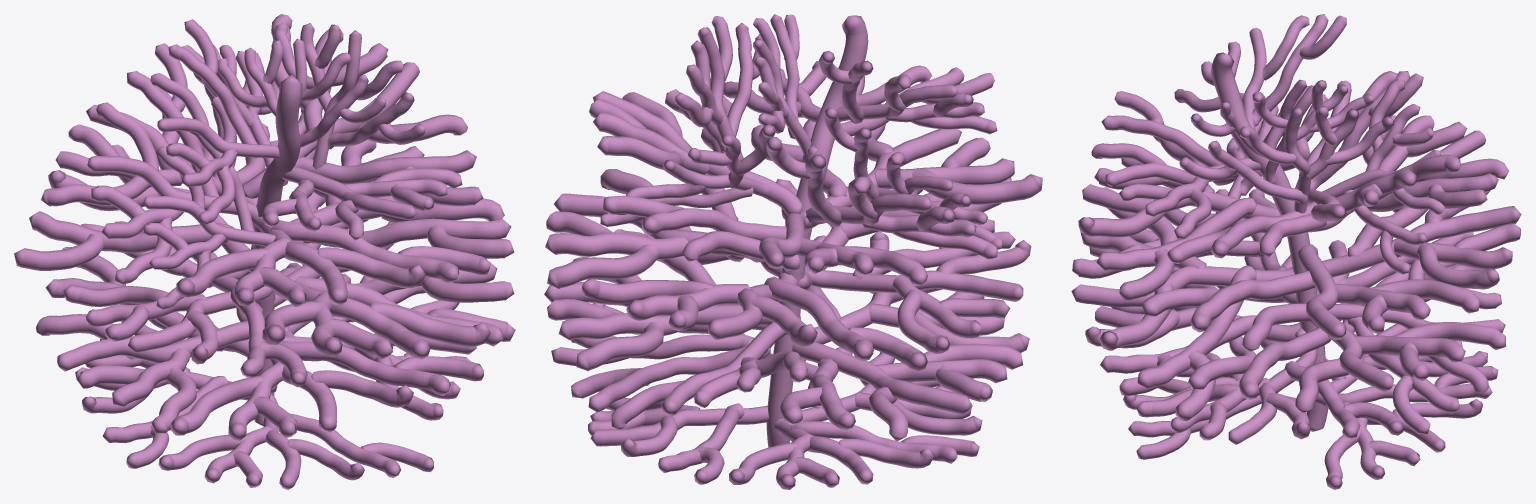
Rendered from coral1.glb.
3 views of the same model, side by side, from view 1: azimuth 30°, elevation 25°; view 2: azimuth 150°, elevation 25°; view 3: azimuth 270°, elevation 25° (orthographic). The views are drawn at different scales.
Parts seen in each view (by area): view 1: brush_Icing_g14_b0_30, brush_Icing_g5_b0_12, brush_Icing_g9_b0_20, brush_Icing_g6_b0_14, brush_Icing_g10_b0_22, brush_Icing_g21_b0_44, brush_Icing_g16_b0_34, brush_Icing_g2_b0_6, brush_Icing_g22_b0_46, brush_Icing_g12_b0_26, brush_Icing_g13_b0_28, brush_Icing_g11_b0_24 (+11 smaller); view 2: brush_Icing_g11_b0_24, brush_Icing_g6_b0_14, brush_Icing_g10_b0_22, brush_Icing_g15_b0_32, brush_Icing_g7_b0_16, brush_Icing_g12_b0_26, brush_Icing_g1_b0_4, brush_Icing_g14_b0_30, brush_Icing_g21_b0_44, brush_Icing_g8_b0_18, brush_Icing_g16_b0_34, brush_Icing_g3_b0_8 (+11 smaller); view 3: brush_Icing_g12_b0_26, brush_Icing_g8_b0_18, brush_Icing_g9_b0_20, brush_Icing_g11_b0_24, brush_Icing_g14_b0_30, brush_Icing_g13_b0_28, brush_Icing_g4_b0_10, brush_Icing_g16_b0_34, brush_Icing_g17_b0_36, brush_Icing_g15_b0_32, brush_Icing_g7_b0_16, brush_Icing_g3_b0_8 (+11 smaller).
Part boxes in pixels (left/top/right/bottom): brush_Icing_g14_b0_30: left=176, top=216, right=490, bottom=306; brush_Icing_g5_b0_12: left=170, top=340, right=483, bottom=440; brush_Icing_g9_b0_20: left=252, top=269, right=515, bottom=359; brush_Icing_g6_b0_14: left=36, top=247, right=249, bottom=433; brush_Icing_g10_b0_22: left=63, top=285, right=307, bottom=387; brush_Icing_g21_b0_44: left=87, top=43, right=258, bottom=284; brush_Icing_g16_b0_34: left=243, top=14, right=482, bottom=206; brush_Icing_g2_b0_6: left=158, top=394, right=433, bottom=489; brush_Icing_g22_b0_46: left=150, top=19, right=279, bottom=224; brush_Icing_g12_b0_26: left=251, top=139, right=514, bottom=258; brush_Icing_g13_b0_28: left=261, top=166, right=462, bottom=240; brush_Icing_g11_b0_24: left=14, top=123, right=269, bottom=271; brush_Icing_g11_b0_24: left=581, top=271, right=927, bottom=371; brush_Icing_g6_b0_14: left=780, top=341, right=1022, bottom=441; brush_Icing_g10_b0_22: left=807, top=219, right=1031, bottom=353; brush_Icing_g15_b0_32: left=603, top=195, right=928, bottom=285; brush_Icing_g7_b0_16: left=571, top=322, right=807, bottom=430; brush_Icing_g12_b0_26: left=545, top=128, right=799, bottom=288; brush_Icing_g1_b0_4: left=729, top=419, right=979, bottom=489; brush_Icing_g14_b0_30: left=751, top=104, right=1042, bottom=230; brush_Icing_g21_b0_44: left=766, top=137, right=997, bottom=259; brush_Icing_g8_b0_18: left=544, top=226, right=800, bottom=370; brush_Icing_g16_b0_34: left=589, top=89, right=803, bottom=215; brush_Icing_g3_b0_8: left=588, top=397, right=769, bottom=484; brush_Icing_g12_b0_26: left=1142, top=244, right=1480, bottom=352; brush_Icing_g8_b0_18: left=1188, top=321, right=1506, bottom=413; brush_Icing_g9_b0_20: left=1071, top=187, right=1294, bottom=421; brush_Icing_g11_b0_24: left=1322, top=190, right=1521, bottom=289; brush_Icing_g14_b0_30: left=1078, top=124, right=1280, bottom=300; brush_Icing_g13_b0_28: left=1091, top=91, right=1278, bottom=238; brush_Icing_g4_b0_10: left=1136, top=349, right=1403, bottom=444; brush_Icing_g16_b0_34: left=1167, top=154, right=1460, bottom=263; brush_Icing_g17_b0_36: left=1179, top=106, right=1393, bottom=213; brush_Icing_g15_b0_32: left=1352, top=115, right=1508, bottom=211; brush_Icing_g7_b0_16: left=1328, top=232, right=1505, bottom=433; brush_Icing_g3_b0_8: left=1315, top=366, right=1498, bottom=489.
Bounding box in the file's own units: 0.5843 × 0.5731 × 0.6026.
